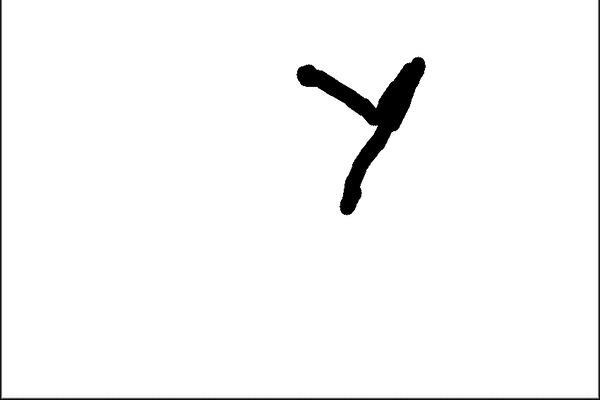Y: (281, 48, 432, 228)
